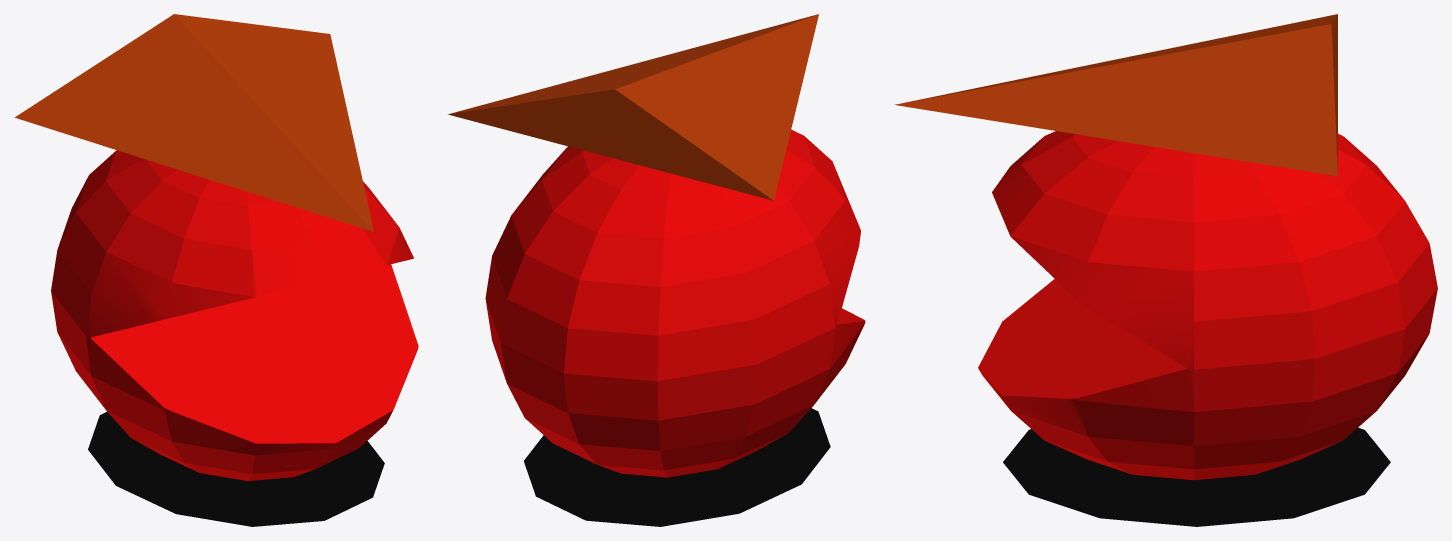
Rendered from enemyPacman.fbx.
The picture shows the model from 3 angles, left to right: view 1: azimuth 30°, elevation 25°; view 2: azimuth 150°, elevation 25°; view 3: azimuth 270°, elevation 25°; orthographic projection. The views are drawn at different scales.
Parts seen in each view (by area): view 1: pSphere2, pPyramid1, pCylinder1; view 2: pSphere2, pPyramid1, pCylinder1; view 3: pSphere2, pPyramid1, pCylinder1.
Boxes of the visible parts, x1,y1,x2,y2 form: pSphere2: (51, 150, 418, 480); pPyramid1: (15, 14, 373, 231); pCylinder1: (88, 412, 384, 526); pSphere2: (485, 129, 865, 477); pPyramid1: (448, 14, 818, 200); pCylinder1: (524, 408, 830, 526); pSphere2: (978, 131, 1437, 480); pPyramid1: (894, 14, 1337, 176); pCylinder1: (1003, 427, 1390, 526).
Size of the model in its own units: 0.625 by 0.7534 by 0.8469.
